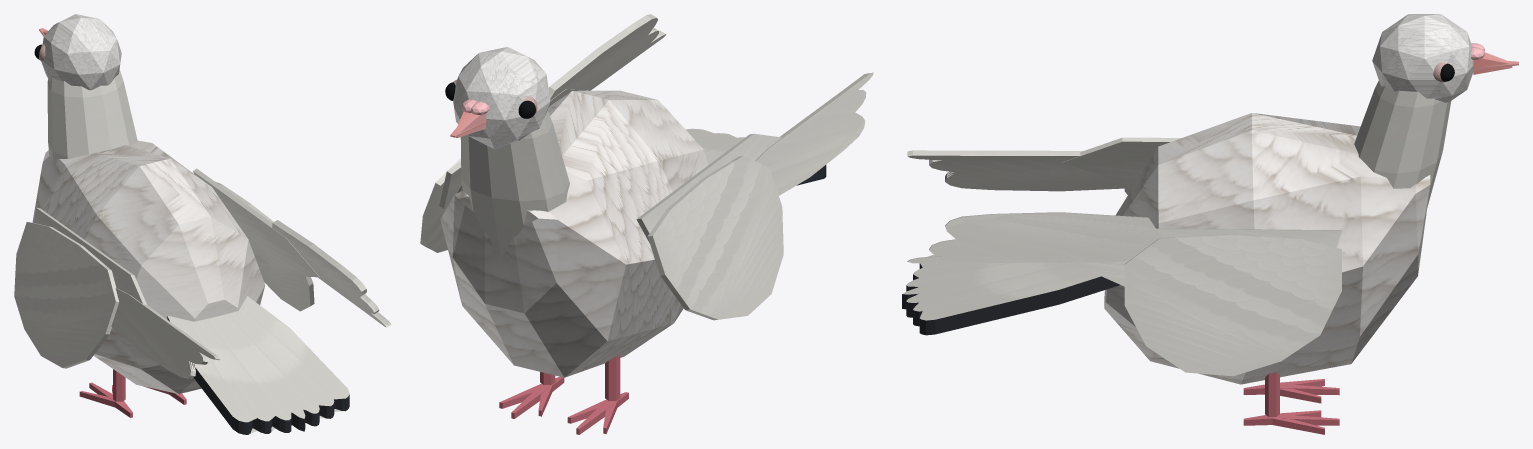
File: white_pigeon.glb
The picture shows the model from 3 angles, left to right: view 1: azimuth 30°, elevation 25°; view 2: azimuth 150°, elevation 25°; view 3: azimuth 270°, elevation 25°; orthographic projection. The views are drawn at different scales.
Parts seen in each view (by area): view 1: body, tail, folded_overlay, neck, head, outer_folded_overlay, inner_mesh.001, outer_mesh.001, folded_overlay.001, inner_mesh, foot, outer_folded_overlay.001 (+1 smaller); view 2: body, folded_overlay, neck, head, outer_folded_overlay, outer_mesh.001, inner_mesh, folded_overlay.001, tail, foot.001, foot, inner_mesh.001 (+2 smaller); view 3: body, folded_overlay.001, tail, outer_folded_overlay.001, neck, head, outer_mesh, inner_mesh, inner_mesh.001, foot.001, foot, outer_folded_overlay (+1 smaller).
Part boxes in pixels (x1,y1,x2,y2): body: (32, 140, 265, 393); tail: (167, 296, 349, 434); folded_overlay: (14, 222, 118, 368); neck: (47, 69, 137, 160); head: (41, 14, 121, 90); outer_folded_overlay: (111, 288, 218, 378); inner_mesh.001: (193, 168, 319, 277); outer_mesh.001: (272, 221, 387, 327); folded_overlay.001: (215, 181, 314, 311); inner_mesh: (34, 207, 146, 304); foot: (79, 382, 132, 417); outer_folded_overlay.001: (274, 220, 391, 326); body: (440, 90, 708, 377); folded_overlay: (647, 156, 783, 320); neck: (460, 110, 569, 258); head: (453, 47, 550, 149); outer_folded_overlay: (755, 72, 873, 195); outer_mesh.001: (549, 15, 666, 100); inner_mesh: (636, 133, 781, 242); folded_overlay.001: (420, 158, 460, 252); tail: (685, 128, 826, 185); foot.001: (499, 376, 564, 418); foot: (567, 392, 628, 434); inner_mesh.001: (439, 89, 587, 208); body: (1104, 113, 1430, 384); folded_overlay.001: (1124, 234, 1341, 376); tail: (902, 254, 1119, 335); outer_folded_overlay.001: (907, 212, 1161, 263); neck: (1354, 80, 1451, 207); head: (1372, 14, 1473, 102); outer_mesh: (907, 152, 1133, 191); inner_mesh: (1061, 137, 1181, 185); inner_mesh.001: (1071, 228, 1341, 286); foot.001: (1243, 410, 1339, 434); foot: (1243, 379, 1339, 403); outer_folded_overlay: (907, 150, 1082, 179).
Size of the model in its own units: 0.5275 by 0.6954 by 0.9868.
Materials: 2 (2 with a texture image).
